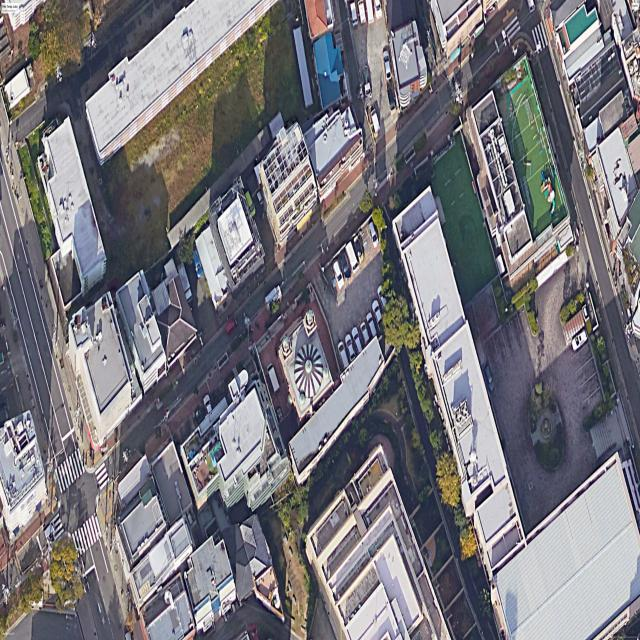Home: (223, 514, 284, 622), (151, 269, 197, 369), (313, 34, 344, 108), (305, 0, 334, 41)
mosque: (279, 308, 333, 417)
